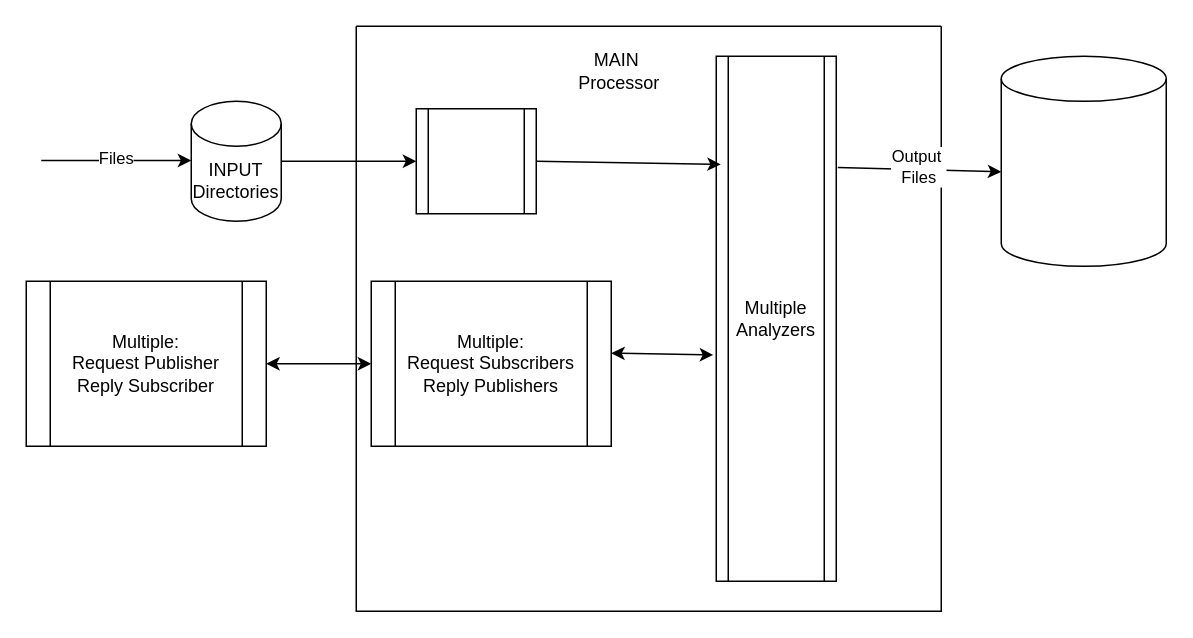
This 1193x638 diagram has some shape labels left out. The shapes that lost their labels are listed below. From the top down, each one's centre as x and y in pixels, then its label:
[475,160]: Multiple file notifiers per type
[1083,160]: OUTPUT Directories
